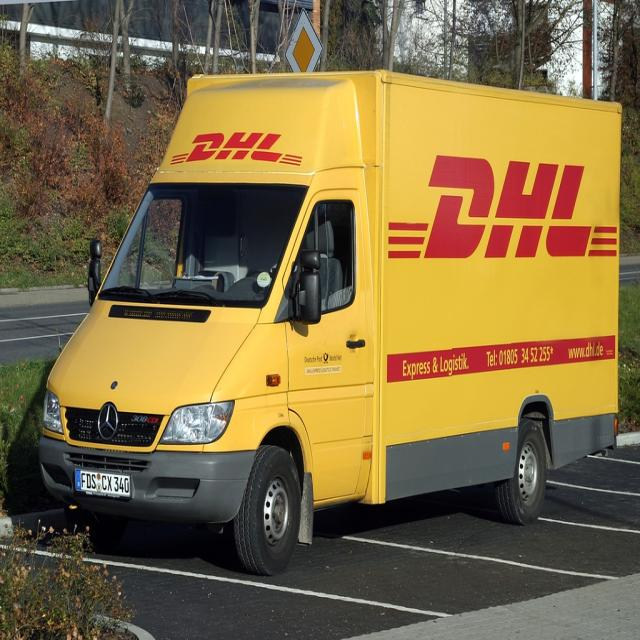dhl: (387, 147, 621, 265), (164, 122, 317, 175)
